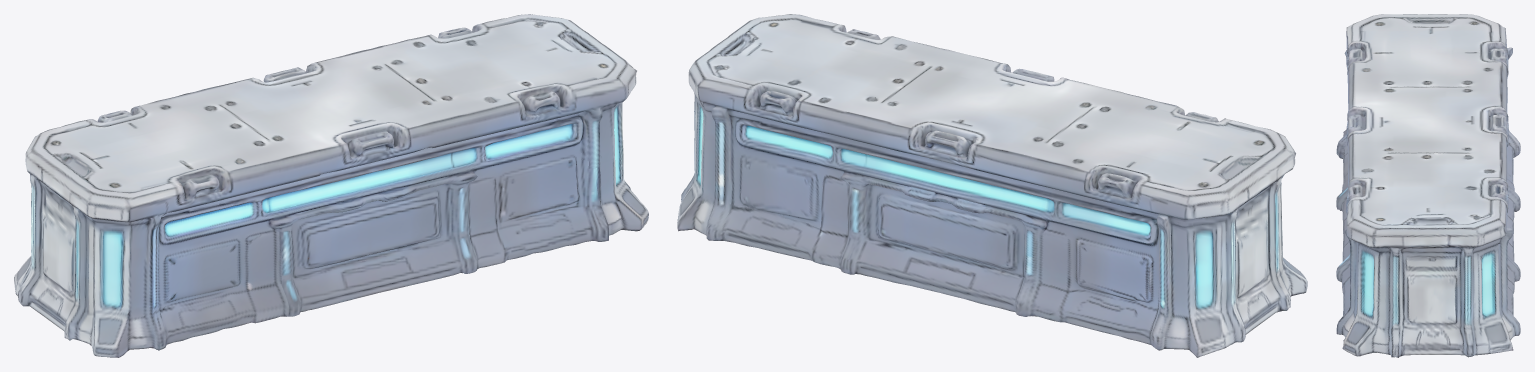
File: lod_platform.fbx
The picture shows the model from 3 angles, left to right: view 1: azimuth 30°, elevation 25°; view 2: azimuth 150°, elevation 25°; view 3: azimuth 270°, elevation 25°; orthographic projection. The views are drawn at different scales.
Parts seen in each view (by area): view 1: model_LOD0; view 2: model_LOD0; view 3: model_LOD0.
Part boxes in pixels (x1,y1,x2,y2): model_LOD0: (14, 14, 648, 357); model_LOD0: (677, 14, 1307, 357); model_LOD0: (1336, 14, 1520, 357).
Size of what is drawn, in the model's own units: 190 by 50.32 by 65.48.
